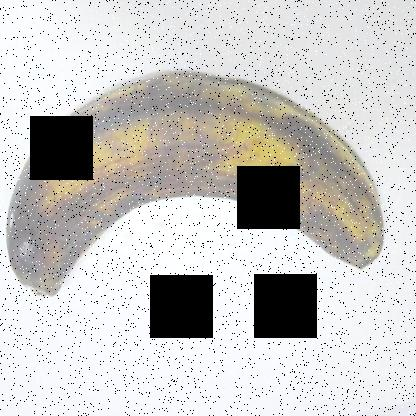overripe: (8, 44, 397, 324)
rotten: (1, 166, 90, 300)
